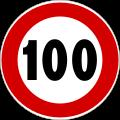Speed Limit -100-: (19, 34, 102, 86)
